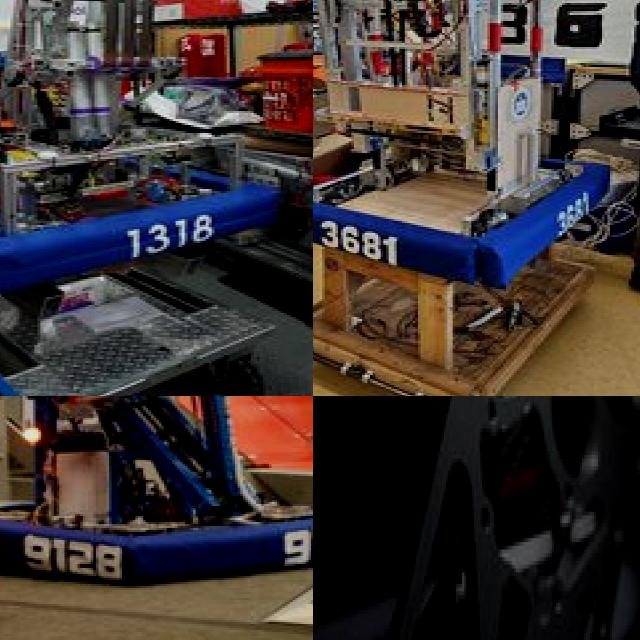FRC-Robots: (313, 0, 640, 303), (0, 0, 298, 258), (0, 396, 313, 583), (394, 396, 640, 633)
